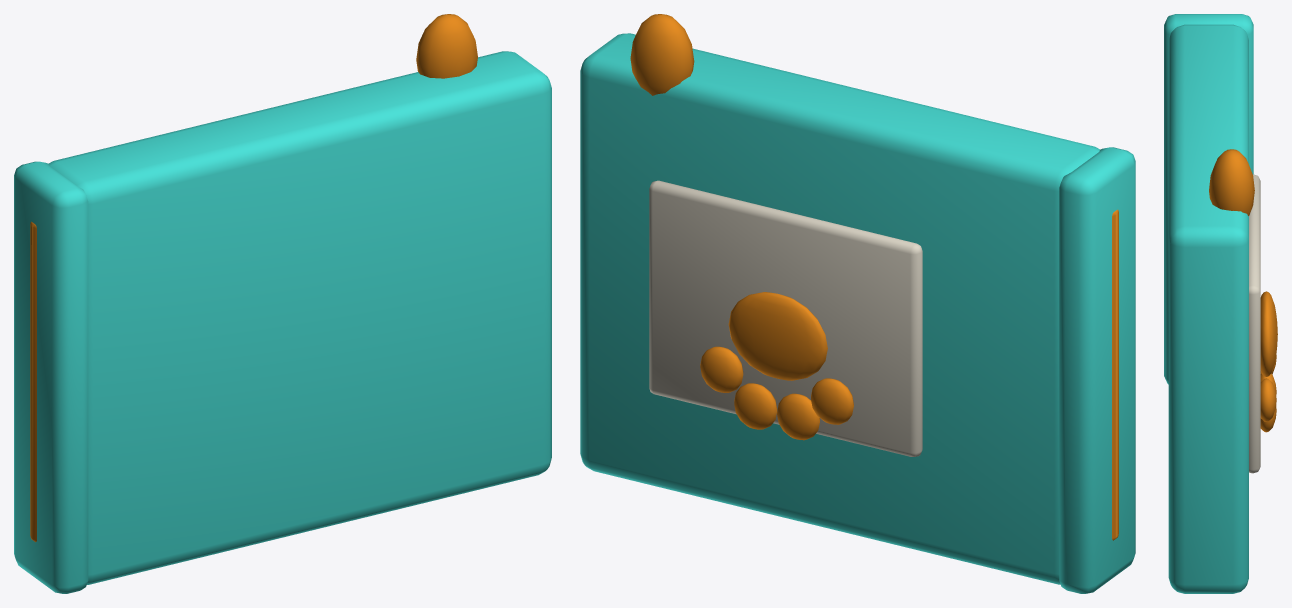
The model's file is LoftBookStackBook_Premium.fbx.
3 renders of one model, left to right at view 1: azimuth 30°, elevation 25°; view 2: azimuth 150°, elevation 25°; view 3: azimuth 270°, elevation 25°, orthographic. The views are drawn at different scales.
Visible parts, largest first — view 1: LoftBookStackBook; view 2: LoftBookStackBook; view 3: LoftBookStackBook.
Boxes of the visible parts, <box> form: LoftBookStackBook: <box>14,14,551,593</box>; LoftBookStackBook: <box>580,14,1135,593</box>; LoftBookStackBook: <box>1164,14,1277,593</box>.
Size of the model in its own units: 0.4614 by 0.398 by 0.099.
